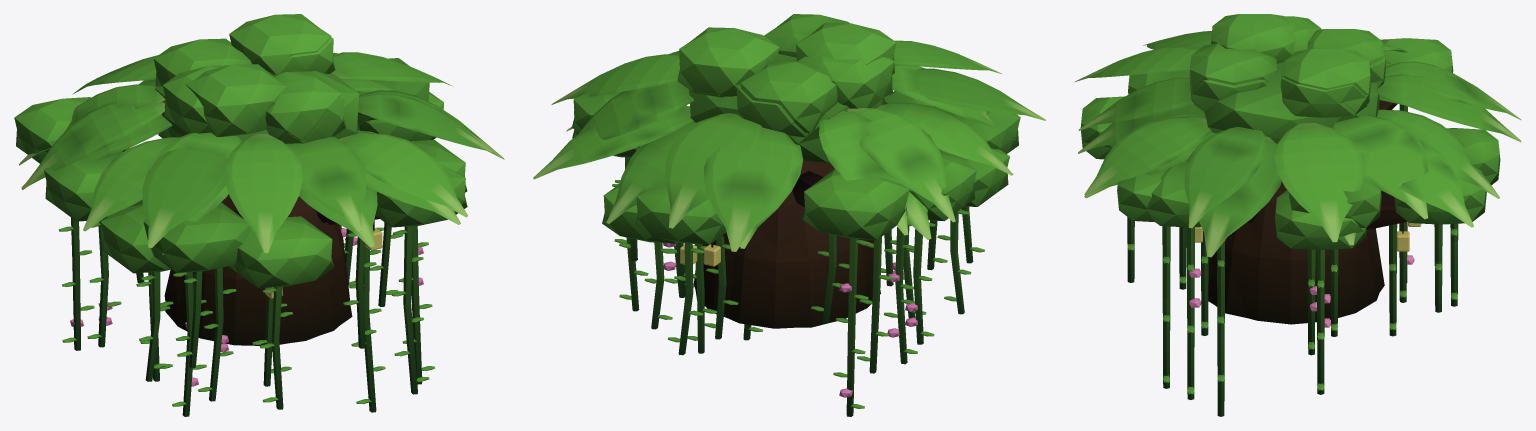
File: swamp-s5-CSSBKjEL.glb
3 views of the same model, side by side, from view 1: azimuth 30°, elevation 25°; view 2: azimuth 150°, elevation 25°; view 3: azimuth 270°, elevation 25° (orthographic). The views are drawn at different scales.
Visible parts, largest first — view 1: sc_crown_1, sc_crown_0; view 2: sc_crown_1, sc_crown_0; view 3: sc_crown_0, sc_crown_1.
Boxes of the visible parts, x1=… form: sc_crown_1: x1=19, y1=37, x2=504, y2=401; sc_crown_0: x1=14, y1=14, x2=492, y2=416; sc_crown_1: x1=533, y1=14, x2=1045, y2=373; sc_crown_0: x1=566, y1=27, x2=1015, y2=416; sc_crown_0: x1=1078, y1=16, x2=1521, y2=416; sc_crown_1: x1=1074, y1=14, x2=1521, y2=388.
Size of the model in its own units: 21.06 by 16.97 by 20.22.
